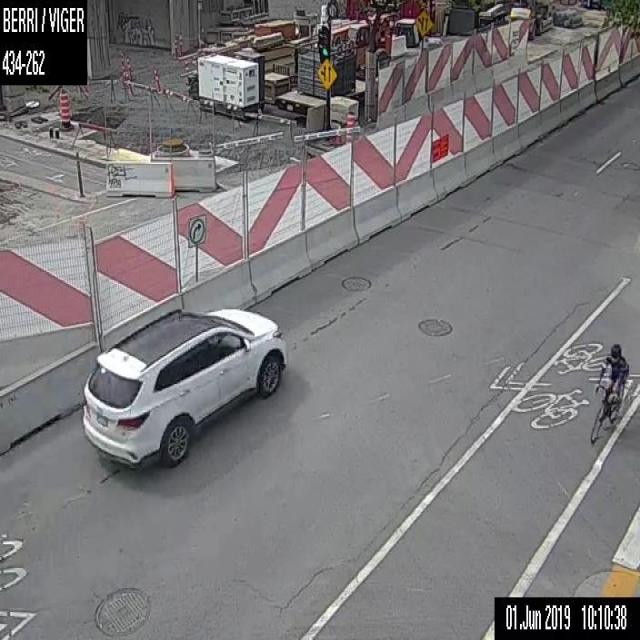construction: (59, 87, 71, 128), (345, 110, 355, 144)
cyclist: (589, 344, 629, 443)
vehicle: (78, 304, 288, 464)
